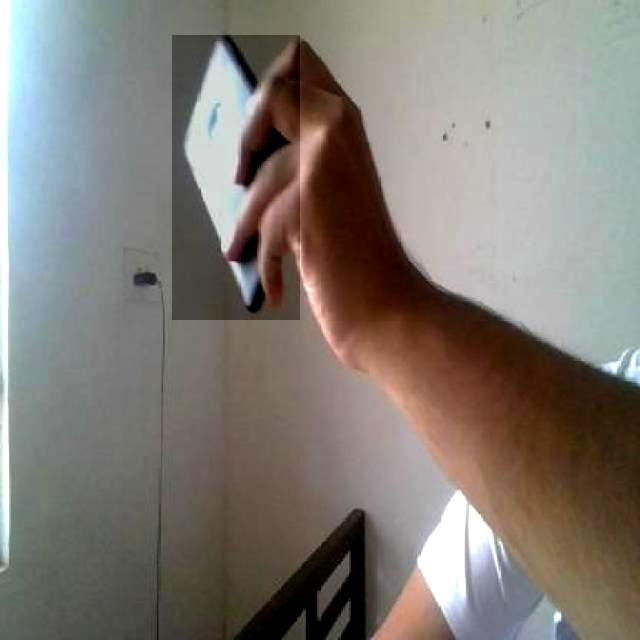phone: (172, 35, 300, 320)
